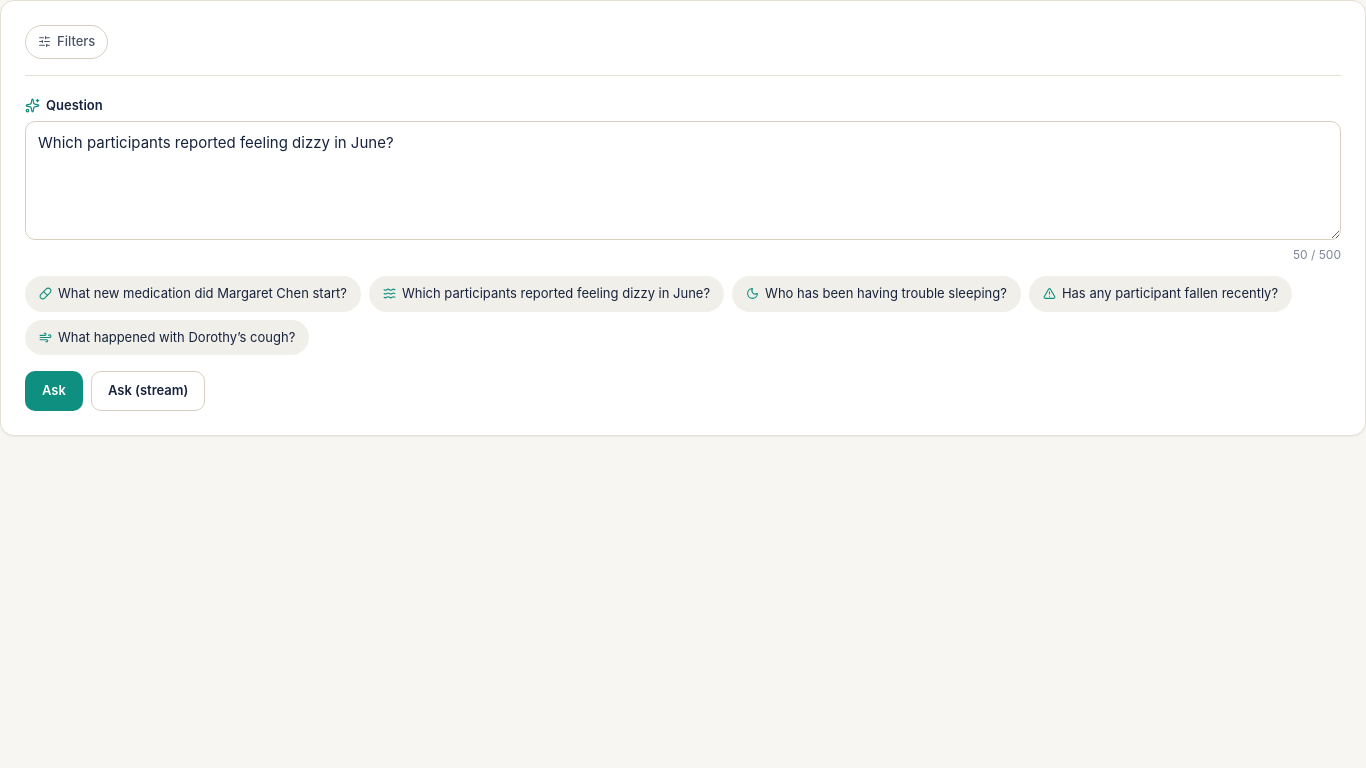
it: AskPage › disables thumbs up/down feedback for the viewer role
The image size is (1366, 768).
Click the button "Ask" at {"x": 54, "y": 391}, box [25,371,83,410]
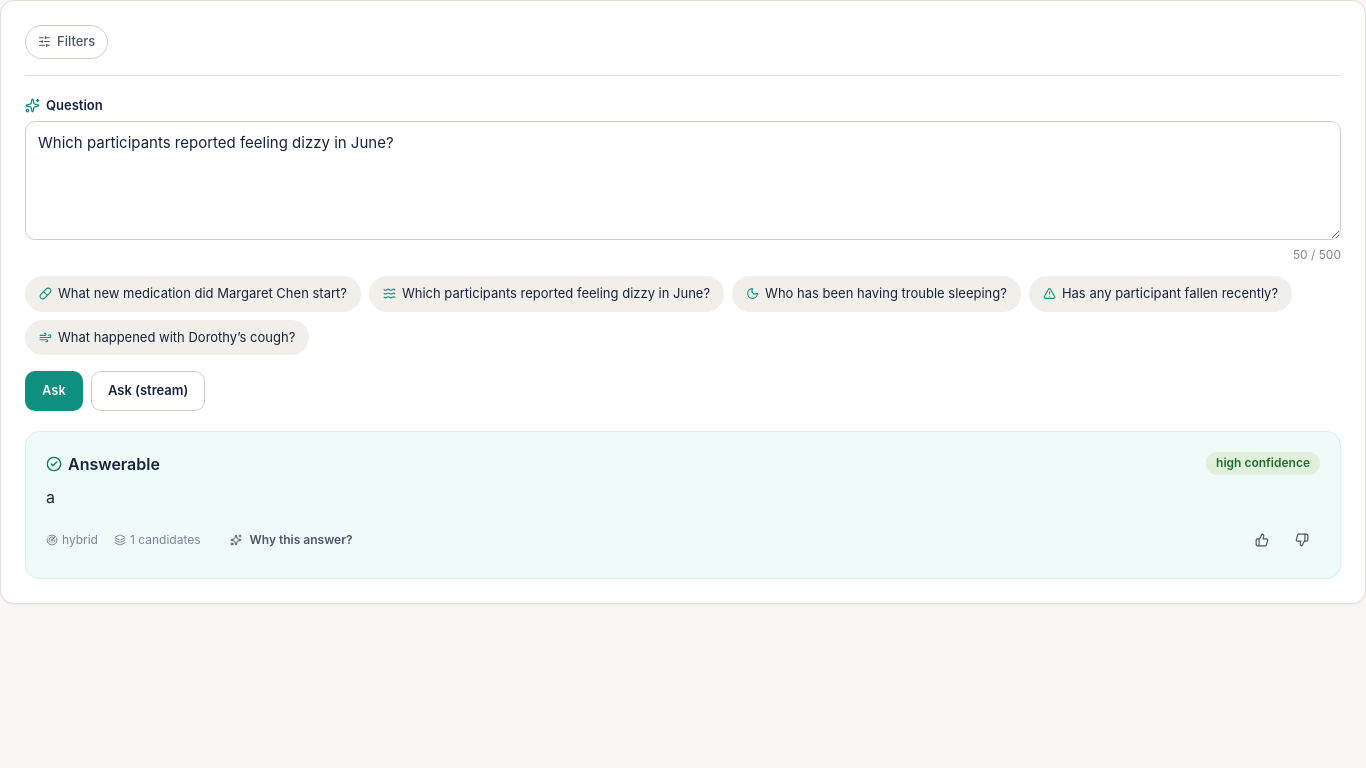
expect the button named "This answer was correct" is disabled: met, box [1244,522,1280,558]
expect the button named "This answer had a problem" is disabled: met, box [1284,522,1320,558]
